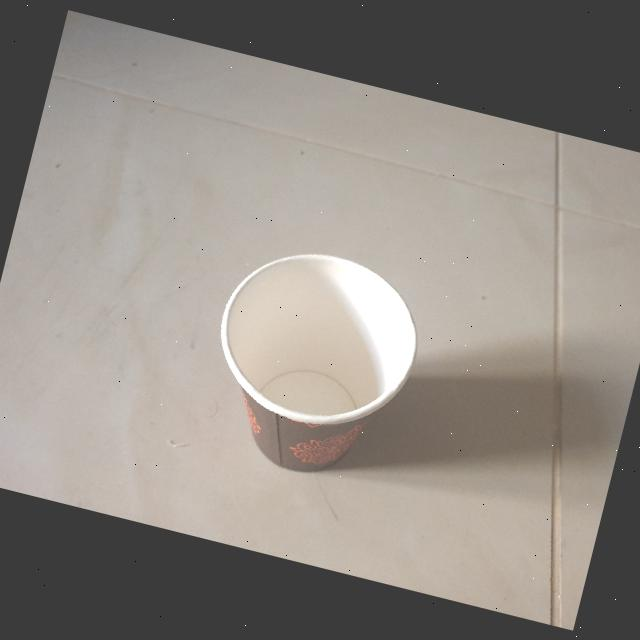trash: (185, 228, 441, 501)
